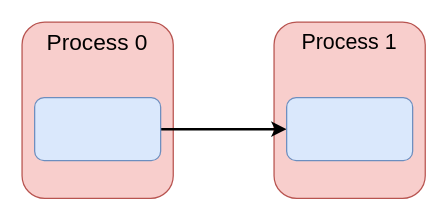
Some shapes in this 447 by 221 pixel diagram are drawn without their labels. The shapes that lost their labels are listed below. From the top down, each one's box as (x1, y1, x2, y2) in pixels, then its label:
(33, 96, 161, 161): Send(data)
(285, 96, 413, 161): Receive(data)
